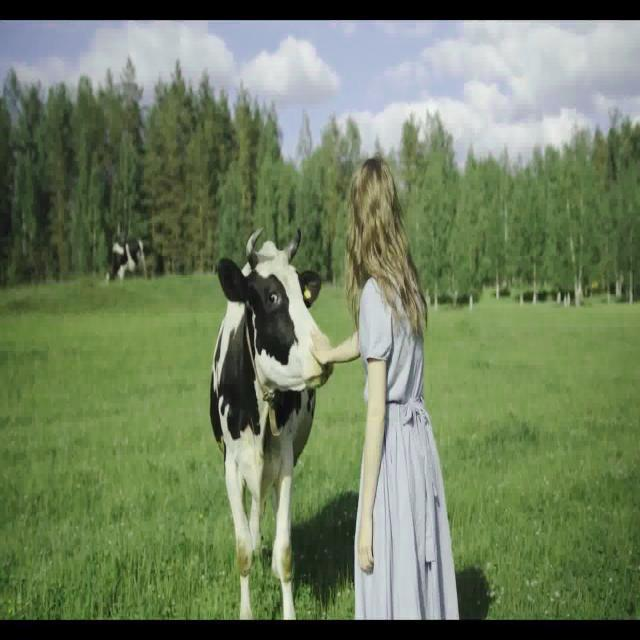cow: (210, 232, 331, 618)
